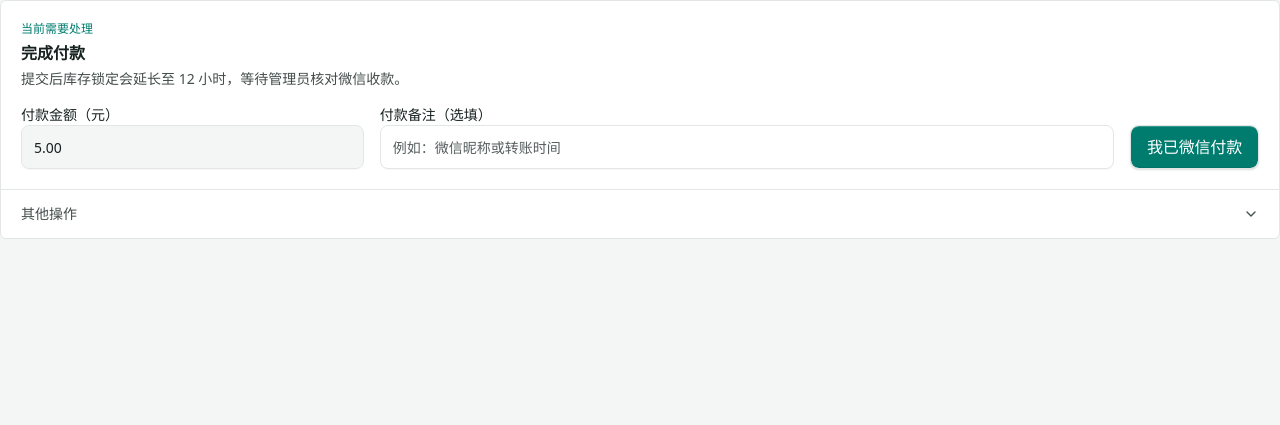
CustomerOrderActions › keeps payment primary and protects cancellation behind secondary actions
Expected: the element named "订单下一步" is shown, [0,0,1279,239]
Expected: the heading "完成付款" is shown, [21,42,85,64]
Click the heading "其他操作" at (49, 214), box [21,204,1259,223]
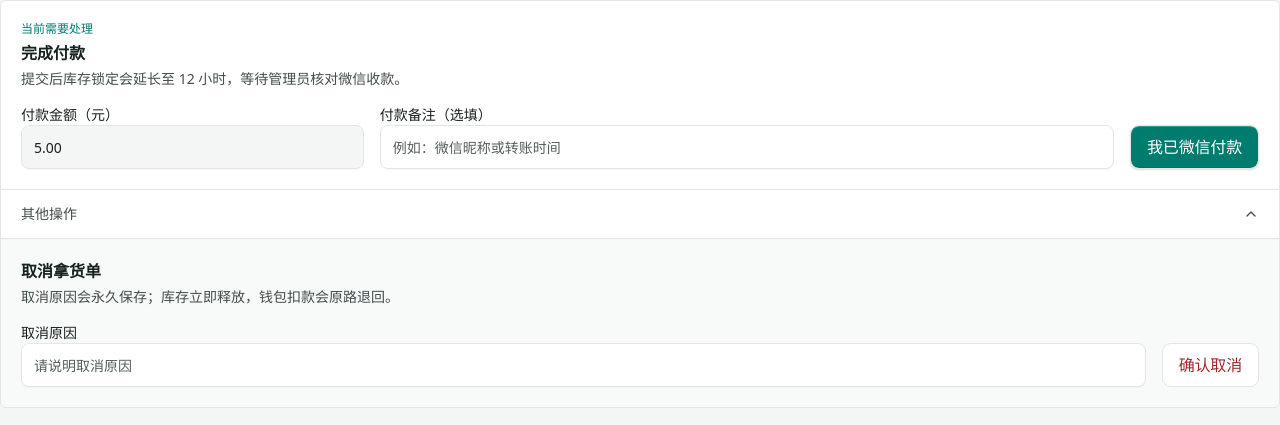
Now the button "确认取消" is shown, box [1162,343,1259,387]
